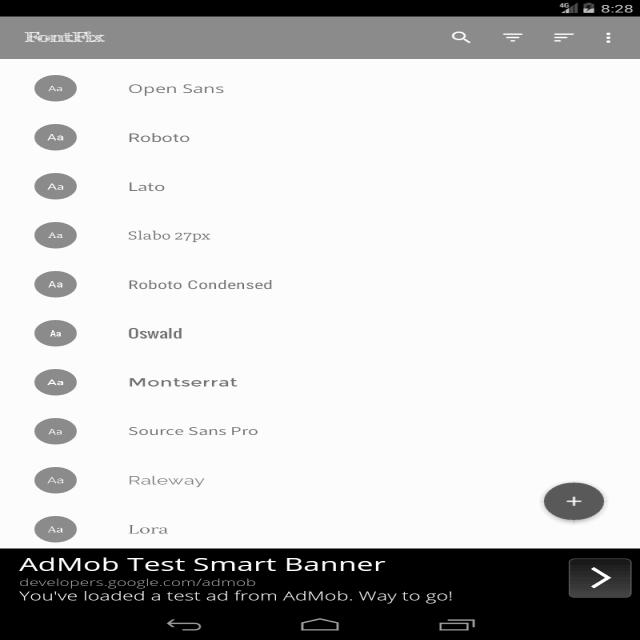Button: (565, 556, 637, 602)
ImageButton: (536, 478, 610, 522), (544, 28, 586, 50), (494, 28, 533, 49), (447, 27, 478, 47), (596, 28, 622, 50)
TextView: (9, 549, 467, 603), (123, 273, 278, 295), (124, 374, 242, 392), (120, 469, 217, 489), (122, 81, 236, 98), (18, 27, 108, 46), (126, 178, 169, 195)
